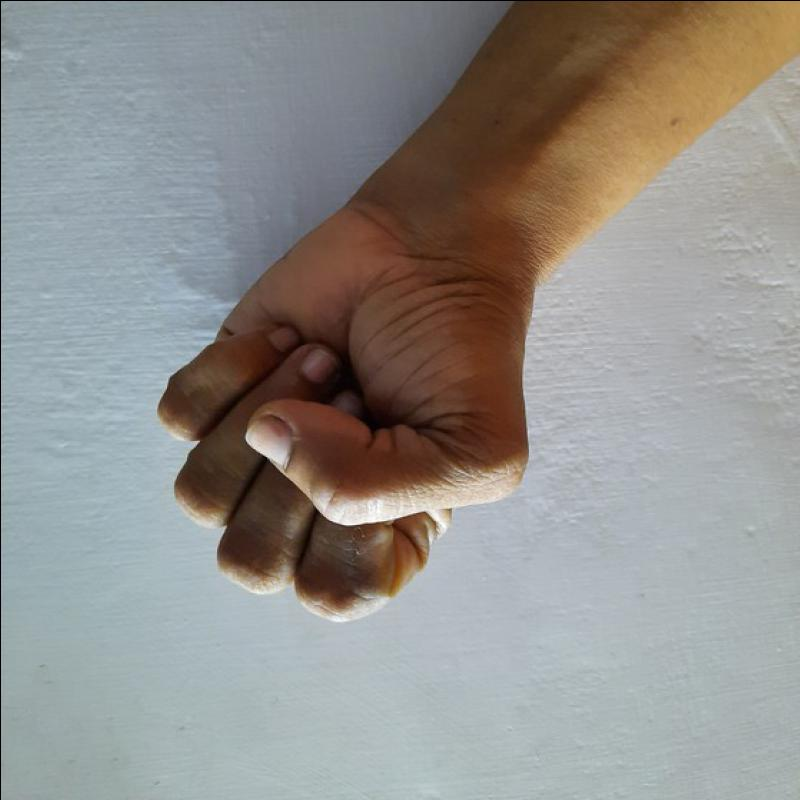Mushti: (152, 220, 539, 656)
